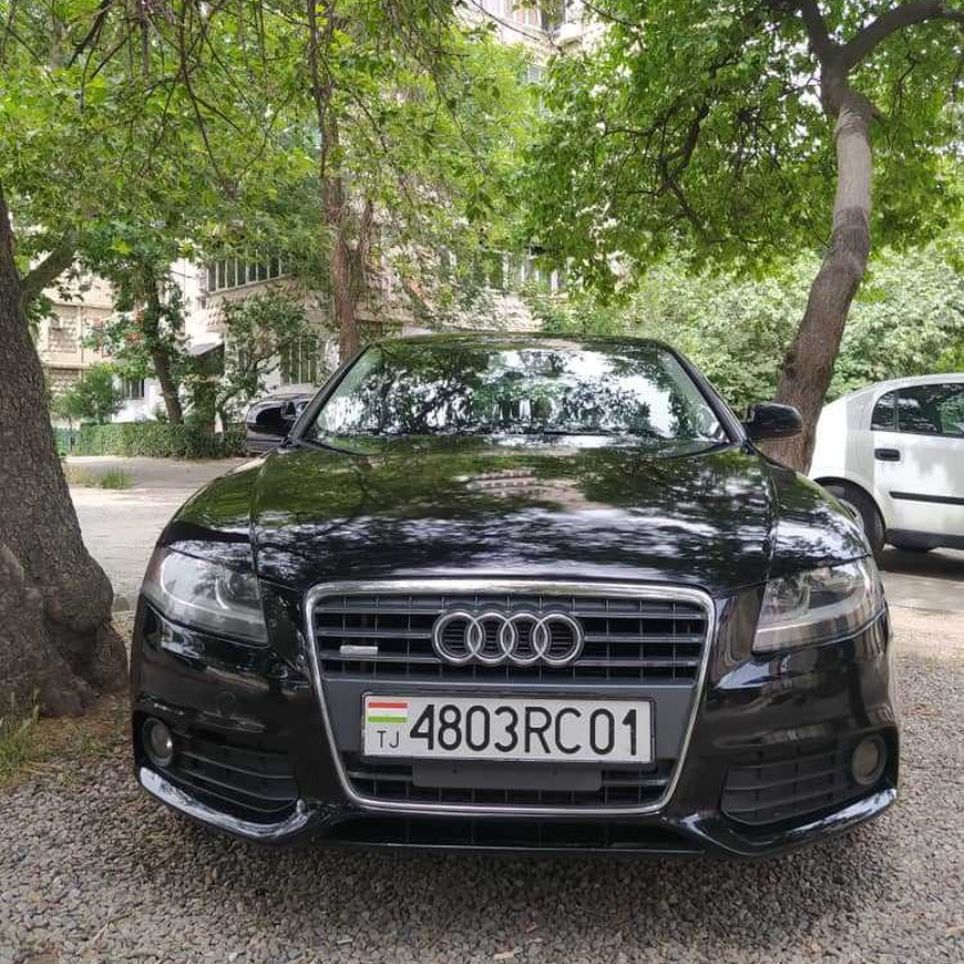license plate: (359, 697, 656, 764)
truck: (129, 330, 904, 856)
